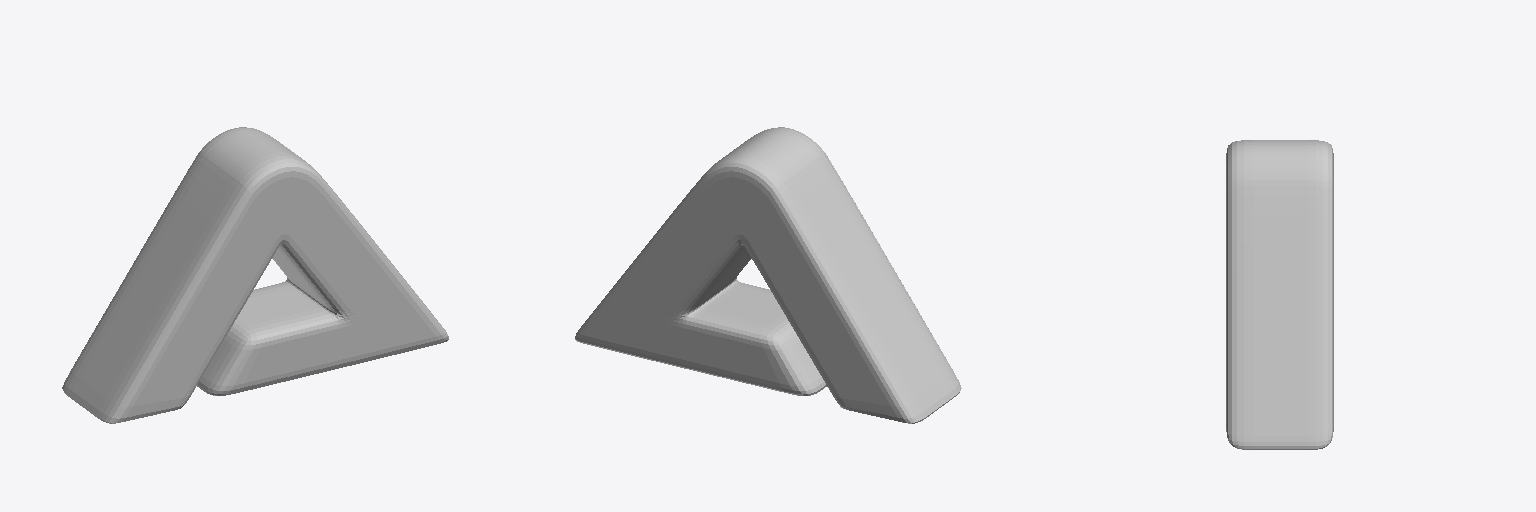
The picture shows the model from 3 angles: view 1: azimuth 30°, elevation 25°; view 2: azimuth 150°, elevation 25°; view 3: azimuth 270°, elevation 25°; orthographic projection.
Parts seen in each view (by area): view 1: polySurface10 text2FixedOneObjectNewNoHistory:pasted__T1; view 2: polySurface10 text2FixedOneObjectNewNoHistory:pasted__T1; view 3: polySurface10 text2FixedOneObjectNewNoHistory:pasted__T1.
Part boxes in pixels (bbox=[...]): polySurface10 text2FixedOneObjectNewNoHistory:pasted__T1: bbox=[62, 127, 448, 423]; polySurface10 text2FixedOneObjectNewNoHistory:pasted__T1: bbox=[575, 127, 961, 423]; polySurface10 text2FixedOneObjectNewNoHistory:pasted__T1: bbox=[1226, 140, 1333, 449].
Bounding box in the file's own units: 630 × 390 × 170.